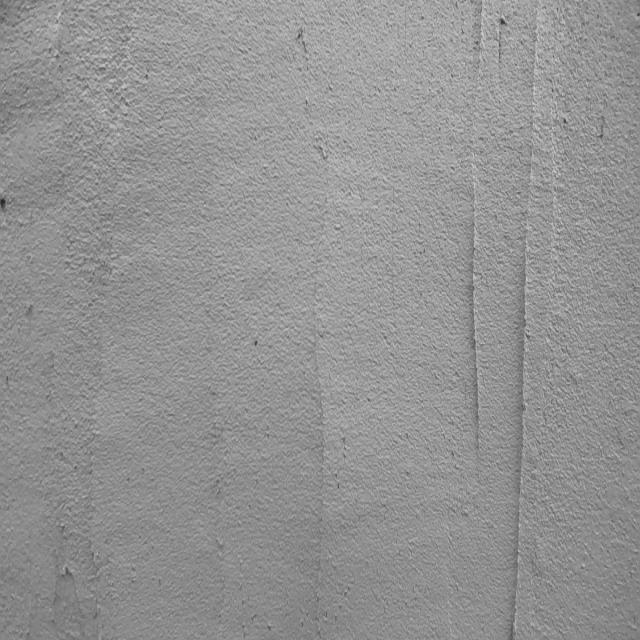trowels marks: (512, 9, 543, 640), (466, 173, 486, 487)
